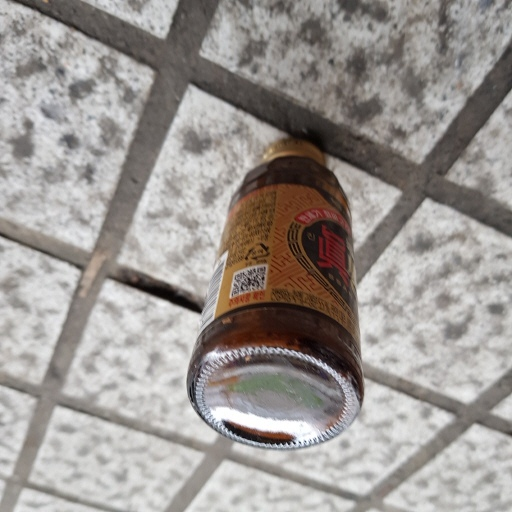Glass_3: (181, 137, 367, 453)
